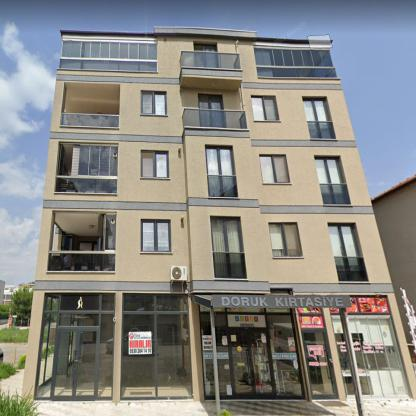door: (52, 328, 99, 400), (229, 329, 275, 399), (302, 330, 338, 399)
window: (34, 294, 115, 401), (121, 294, 192, 400), (348, 316, 412, 398), (266, 314, 305, 399), (61, 40, 157, 61), (332, 317, 356, 399), (254, 47, 334, 67), (215, 312, 233, 399), (199, 313, 215, 400), (78, 143, 118, 177), (270, 223, 302, 257), (328, 224, 361, 256), (211, 219, 242, 252), (142, 220, 170, 252), (260, 155, 289, 183), (206, 148, 233, 176), (315, 158, 344, 184), (141, 151, 168, 178), (251, 96, 279, 121), (97, 214, 116, 250), (303, 98, 330, 122), (142, 90, 166, 116), (198, 95, 223, 110), (57, 142, 65, 175), (194, 44, 217, 52)
